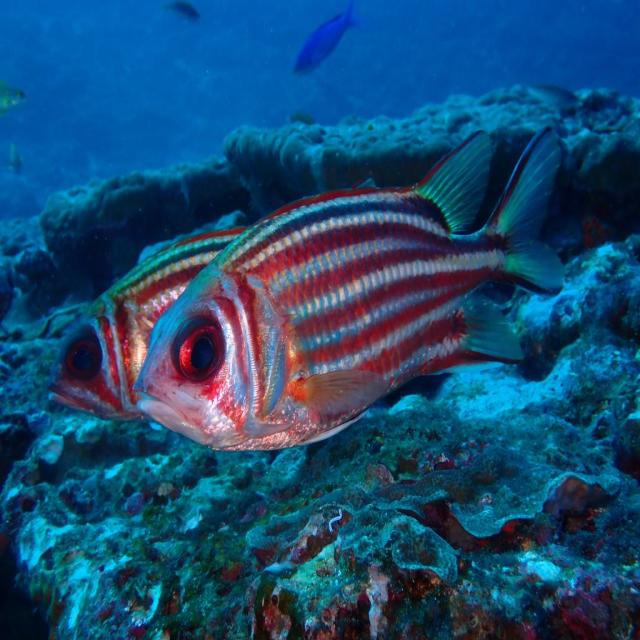Asker Baligi: (48, 124, 568, 454)
